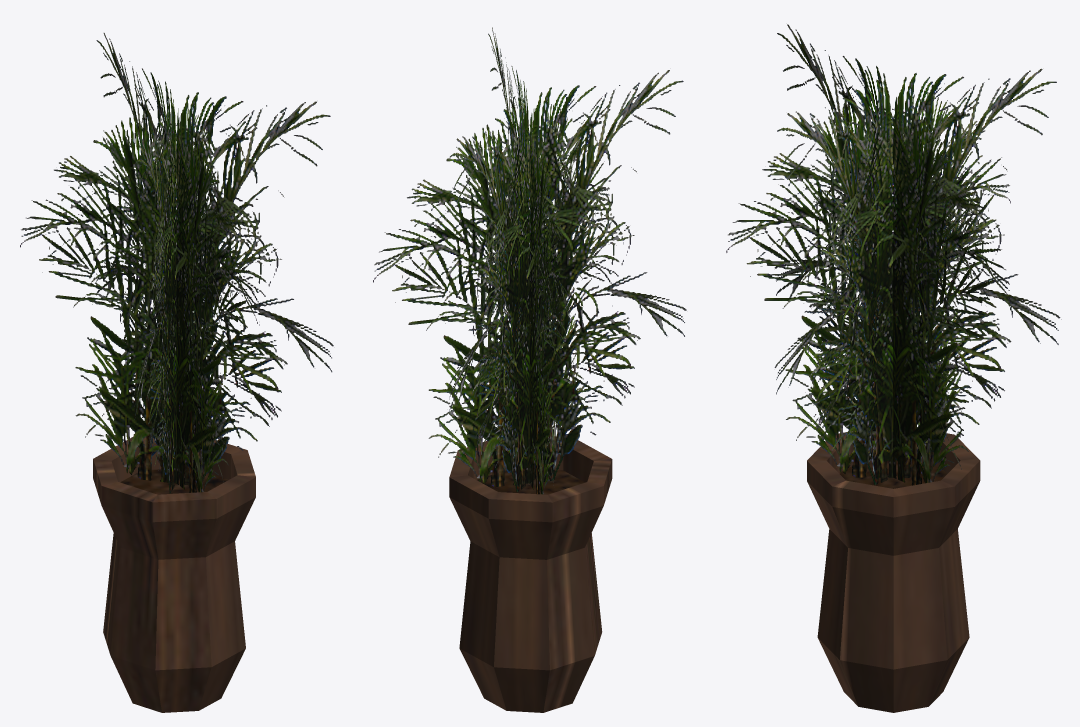
File: PotPlant3.fbx
The picture shows the model from 3 angles, left to right: view 1: azimuth 30°, elevation 25°; view 2: azimuth 150°, elevation 25°; view 3: azimuth 270°, elevation 25°; orthographic projection. The views are drawn at different scales.
Parts seen in each view (by area): view 1: Cylinder.004; view 2: Cylinder.004; view 3: Cylinder.004.
Boxes of the visible parts, x1=… form: Cylinder.004: x1=20, y1=33, x2=333, y2=712; Cylinder.004: x1=373, y1=27, x2=686, y2=712; Cylinder.004: x1=726, y1=24, x2=1061, y2=712.
Bounding box in the file's own units: 85.55 × 242 × 121.
Materials: 2 (2 with a texture image).
